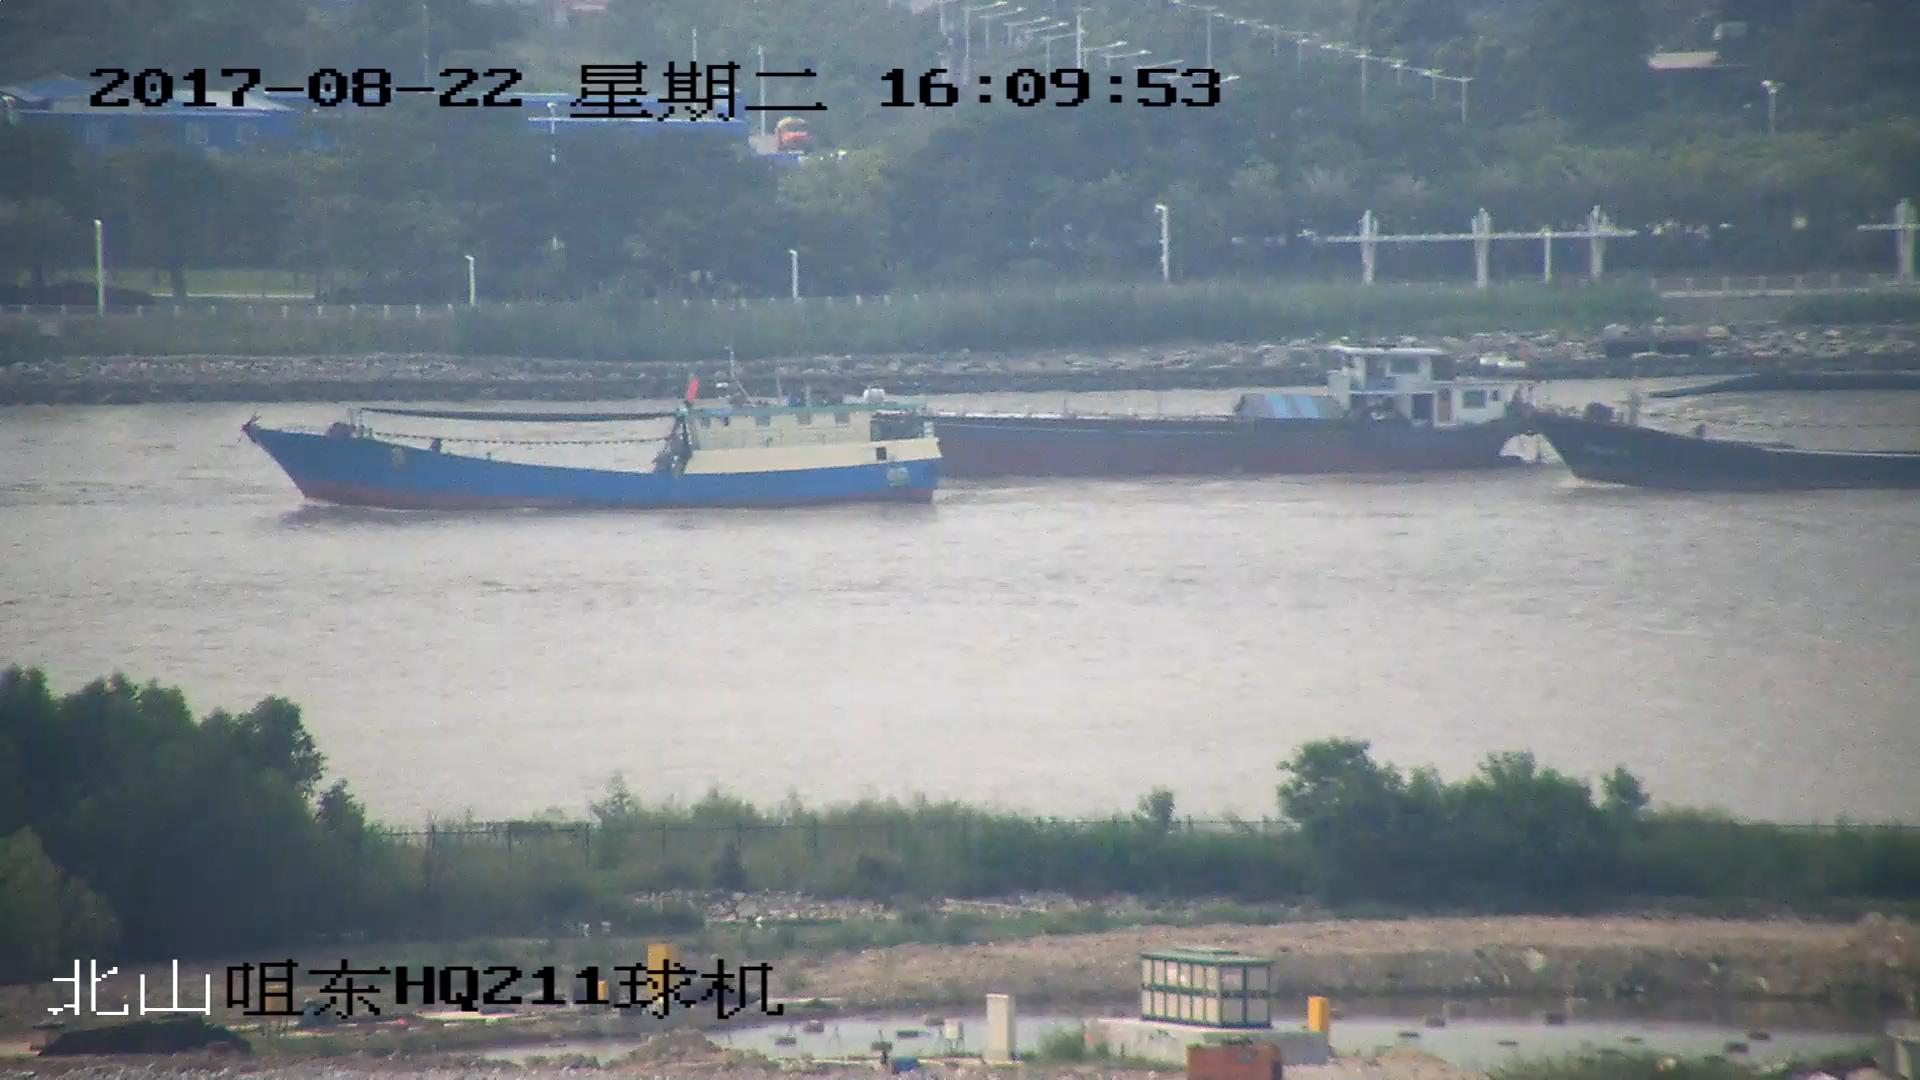bulk cargo carrier: (868, 331, 1540, 474)
fishing boat: (246, 371, 950, 514), (1529, 367, 1920, 492)
